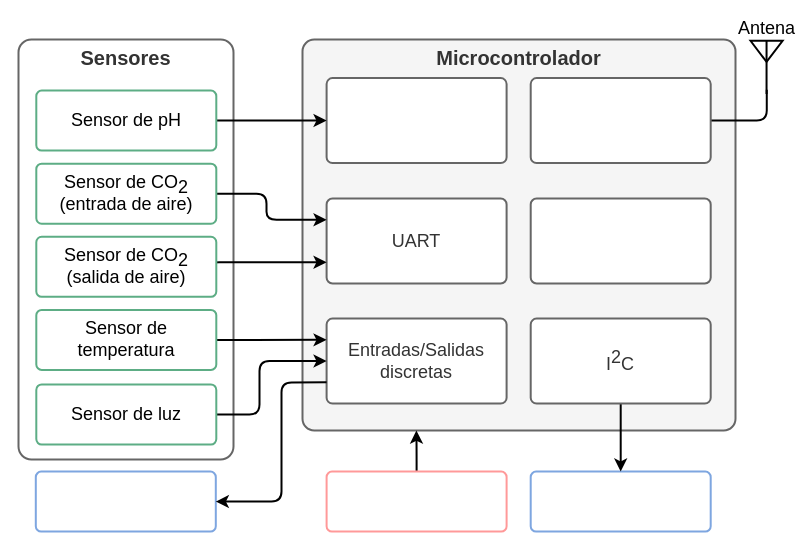
Image size: 812x550. Some labels were removed from this diagram. The shapes that lost their labels are listed below. From the top down, each one's centre as x and y in pixels, then its label:
At point 416,120: "Entradas analógicas".
At point 620,120: "Wi-Fi".
At point 620,240: "RTC".
At point 125,501: "Módulo de r elés".
At point 416,501: "Fuente de alimentación".
At point 620,501: "Display LCD".
